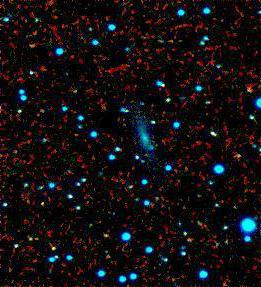star: (40, 234, 70, 264)
